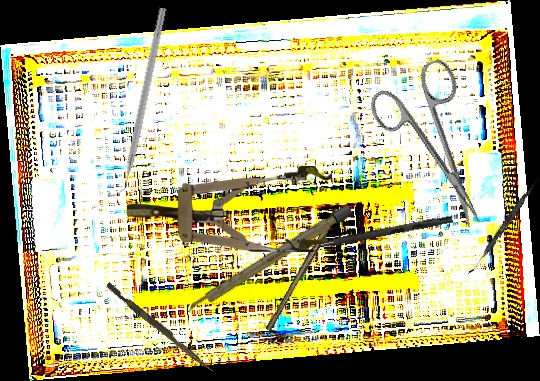Chopper: (109, 5, 167, 199)
Hook Surgical: (284, 213, 454, 258)
Iris Scissors: (363, 55, 513, 245)
Pusher: (103, 282, 217, 373)
Scalpel Handle: (184, 204, 354, 316), (265, 206, 342, 334)
Spatula Surgical: (468, 175, 540, 278)
Speculum: (127, 166, 332, 252)
